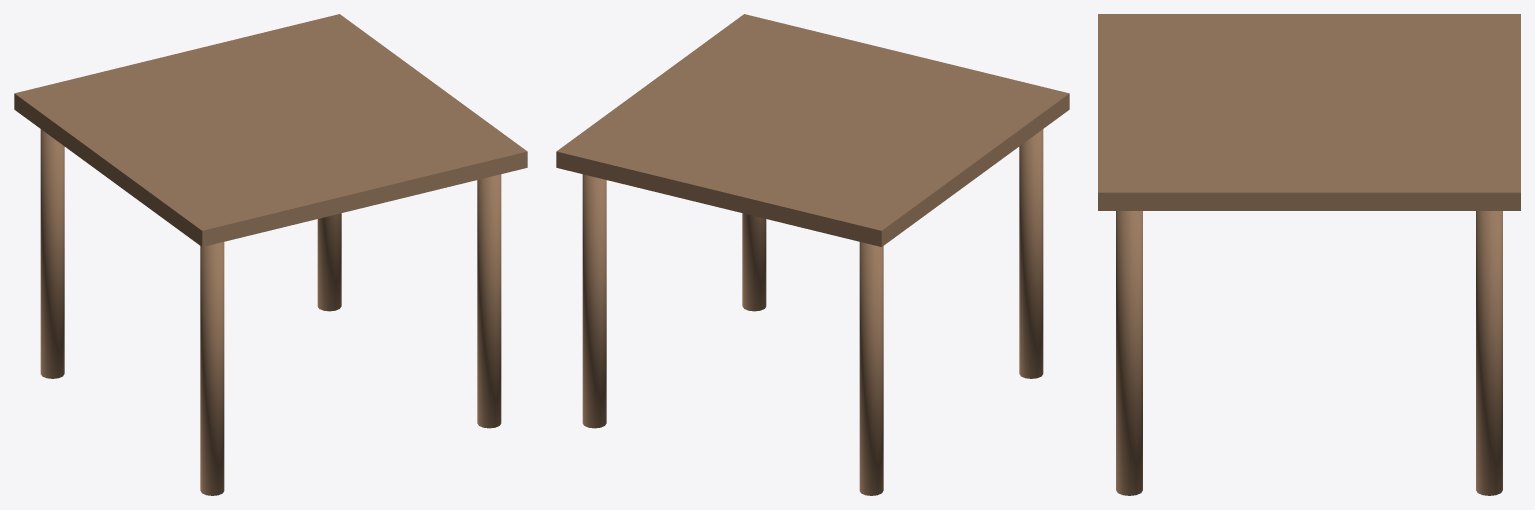
The model's file is table.glb.
3 views of the same model, side by side, from view 1: azimuth 30°, elevation 25°; view 2: azimuth 150°, elevation 25°; view 3: azimuth 270°, elevation 25° (orthographic). The views are drawn at different scales.
Visible parts, largest first — view 1: table; view 2: table; view 3: table.
Boxes of the visible parts, x1,y1,x2,y2 form: table: [14, 14, 527, 495]; table: [556, 14, 1069, 495]; table: [1098, 14, 1520, 495].
Bounding box in the file's own units: 0.94 × 0.7625 × 0.94.
